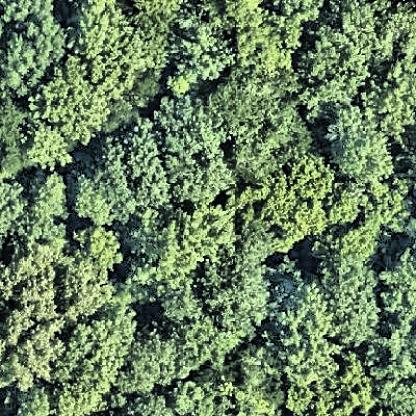tree-top: (6, 248, 139, 394), (72, 103, 233, 223), (201, 62, 317, 186), (129, 206, 237, 289), (27, 72, 108, 171), (278, 334, 374, 416), (76, 1, 150, 90), (299, 25, 374, 109), (323, 104, 397, 186), (313, 252, 376, 348), (225, 1, 314, 67), (262, 160, 334, 237), (1, 173, 72, 251), (172, 3, 235, 90), (4, 13, 70, 95), (204, 254, 274, 331), (132, 330, 203, 400), (337, 182, 410, 248), (348, 1, 416, 62), (361, 62, 416, 130), (377, 246, 416, 328), (73, 224, 125, 275), (367, 332, 416, 384), (169, 380, 226, 416)
